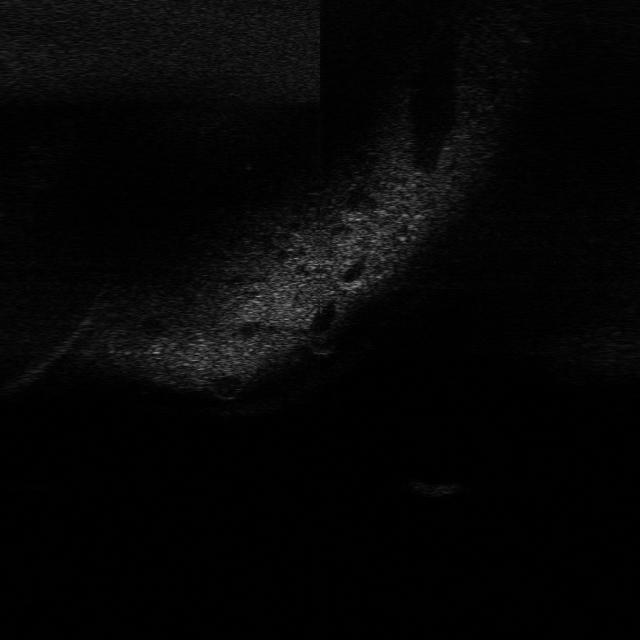ball: (306, 330, 340, 356)
cube: (404, 476, 470, 500)
